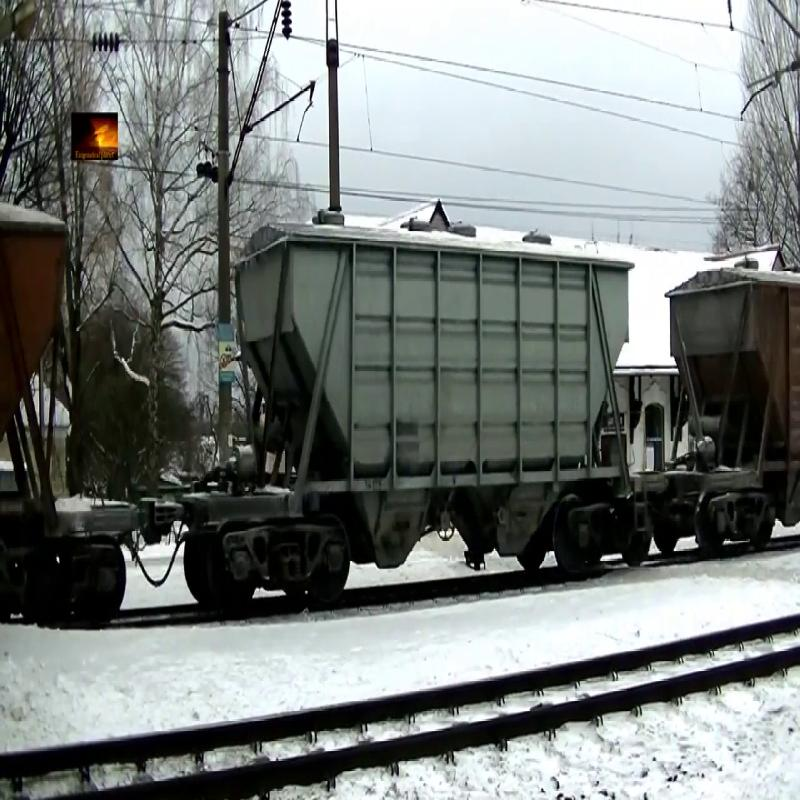train: (170, 235, 651, 587)
